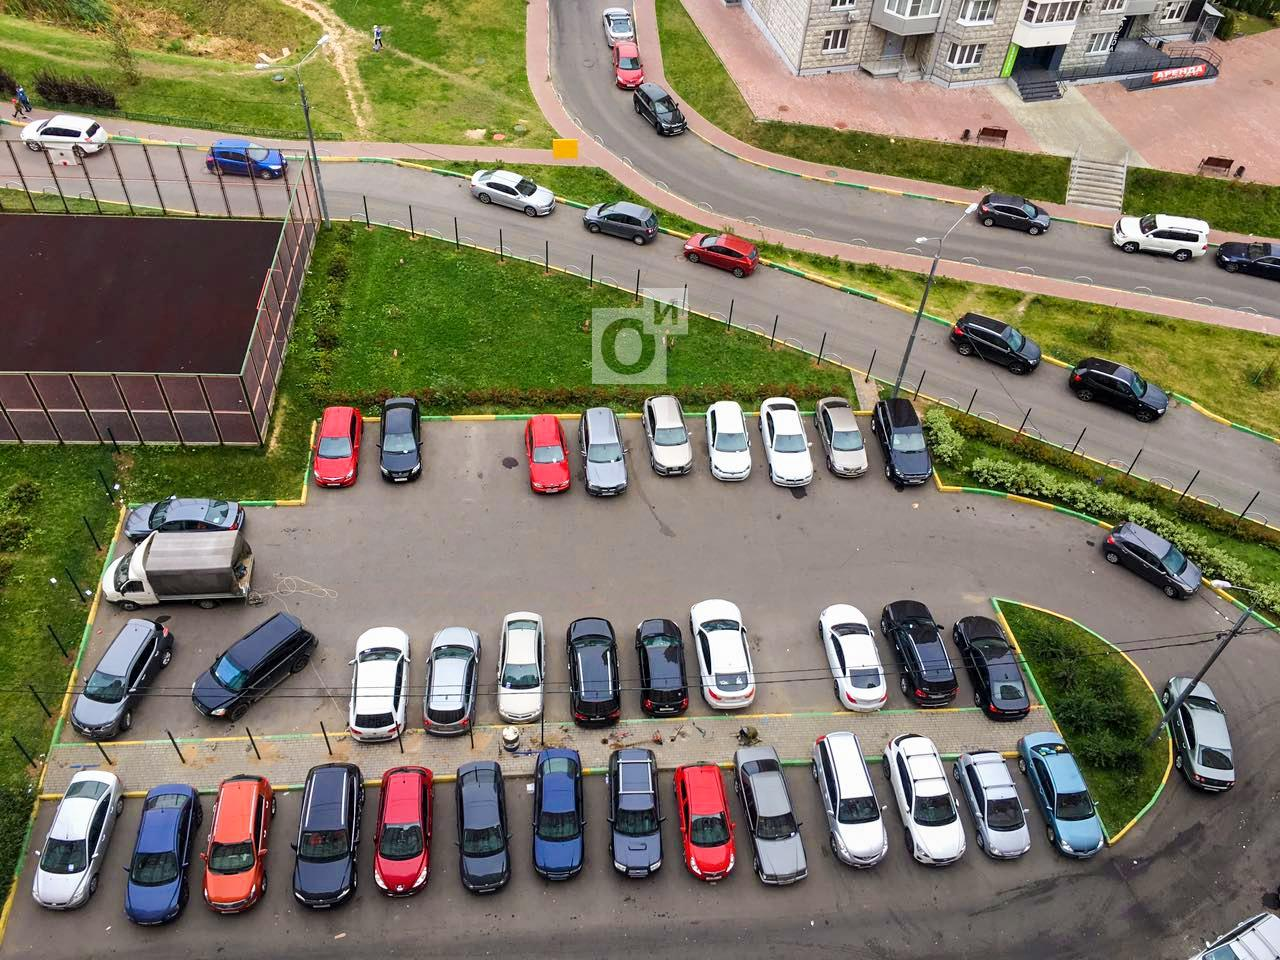empty: (110, 491, 259, 609), (116, 787, 211, 935), (25, 777, 120, 921), (187, 612, 313, 716), (884, 736, 976, 877), (283, 766, 370, 908), (191, 776, 281, 911), (65, 621, 167, 736), (358, 766, 441, 904), (1026, 740, 1116, 855), (963, 747, 1043, 865), (341, 631, 418, 745), (812, 608, 891, 718), (890, 603, 967, 715), (689, 607, 762, 717), (1169, 690, 1242, 797), (962, 623, 1036, 724), (420, 630, 488, 740), (1100, 527, 1205, 597), (1064, 358, 1178, 422), (492, 613, 552, 725), (876, 396, 941, 493), (563, 616, 620, 728), (952, 314, 1054, 375), (303, 403, 371, 495), (756, 399, 818, 491), (574, 413, 639, 501), (1107, 212, 1212, 265), (514, 414, 580, 500), (372, 398, 432, 490), (632, 616, 685, 718), (699, 401, 761, 487), (1193, 903, 1280, 959), (821, 396, 876, 482), (638, 400, 694, 482), (468, 168, 558, 218), (578, 197, 666, 247), (22, 107, 115, 153), (967, 192, 1057, 238), (1215, 234, 1280, 284), (686, 234, 764, 275), (627, 89, 688, 138)
occupied: (743, 610, 831, 710), (470, 405, 524, 493), (430, 403, 470, 496), (776, 263, 848, 312), (860, 292, 925, 343)
